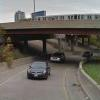Bridge: (4, 7, 95, 39)
